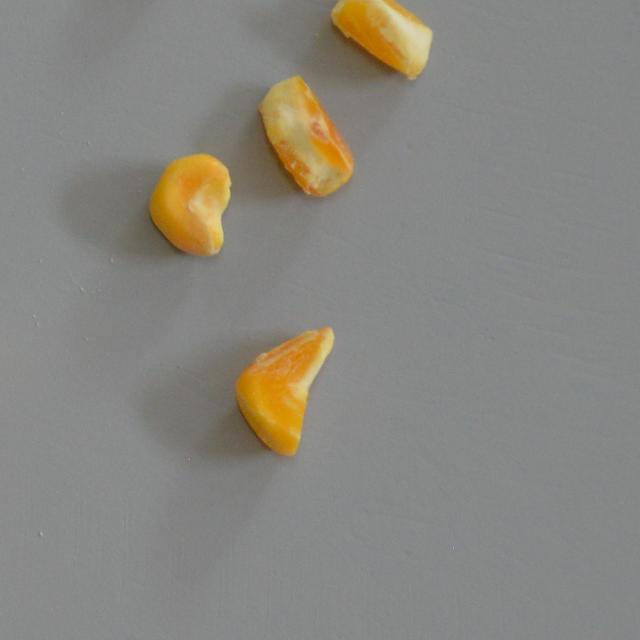dañado: (253, 70, 359, 202), (145, 146, 241, 262)
pelicula: (233, 322, 336, 461), (328, 0, 434, 81)
